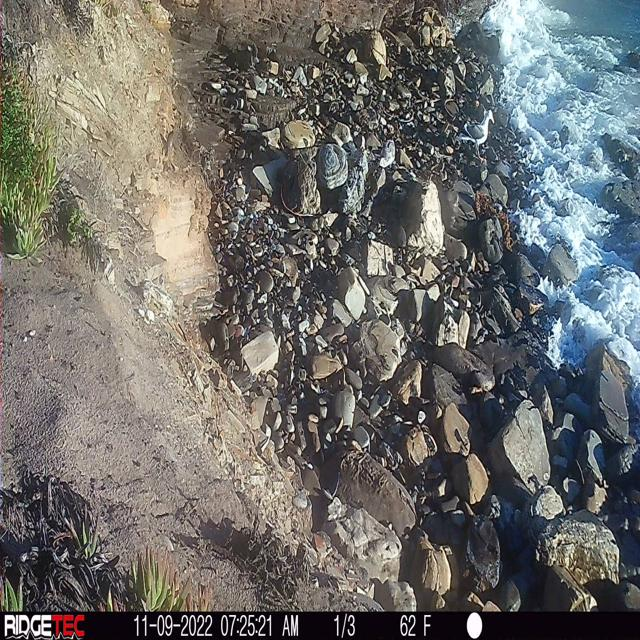bird: (376, 131, 392, 174)
